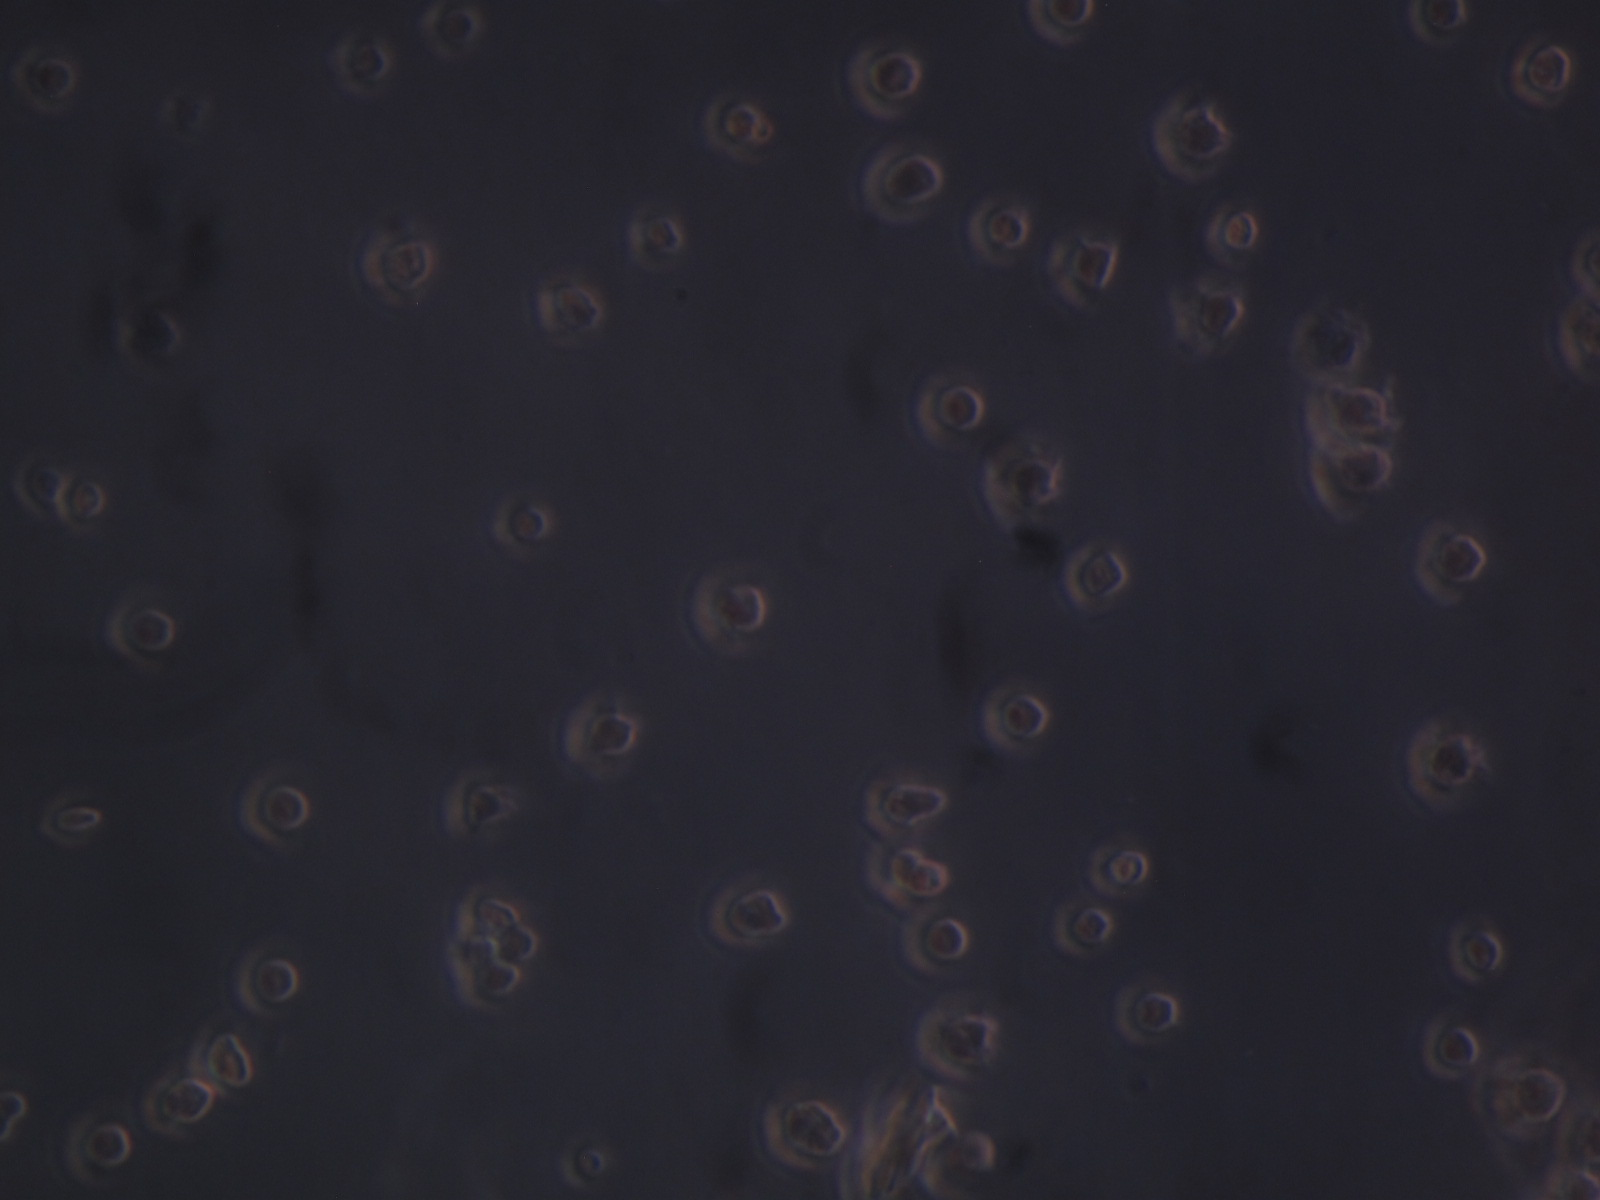hemo: (693, 560, 762, 659), (1493, 1049, 1567, 1139), (242, 764, 311, 857), (1291, 301, 1376, 376), (983, 447, 1060, 526), (1151, 103, 1228, 182), (763, 1097, 845, 1170), (1406, 718, 1475, 804), (1414, 521, 1483, 606), (862, 839, 949, 908), (866, 145, 944, 221), (848, 45, 922, 124), (1164, 284, 1241, 358), (562, 695, 636, 771), (915, 374, 988, 453), (1304, 383, 1388, 447), (920, 1005, 993, 1078), (238, 945, 304, 1026), (985, 677, 1051, 755), (63, 1109, 131, 1184), (1314, 447, 1390, 514), (1048, 239, 1116, 311), (860, 775, 944, 833), (900, 904, 969, 973), (709, 884, 787, 944), (108, 597, 175, 666), (11, 43, 76, 113), (362, 242, 435, 304), (1065, 541, 1131, 608), (189, 1029, 253, 1098), (144, 1075, 215, 1137), (971, 193, 1028, 268), (1112, 981, 1180, 1042), (1516, 37, 1572, 108), (493, 492, 556, 555), (535, 276, 606, 332), (115, 308, 181, 366), (442, 776, 503, 839), (1053, 901, 1116, 961), (704, 89, 758, 156), (1448, 924, 1507, 984), (1422, 1017, 1480, 1079), (42, 792, 103, 850), (1090, 841, 1150, 895), (54, 473, 107, 532), (457, 962, 524, 1008), (11, 456, 63, 516), (459, 886, 520, 934), (1028, 1, 1095, 45), (632, 212, 683, 267), (1207, 211, 1259, 263), (425, 4, 479, 54), (558, 1134, 609, 1187), (336, 42, 393, 88), (1411, 1, 1466, 45), (955, 1127, 997, 1176), (450, 937, 501, 968), (503, 929, 542, 968)
